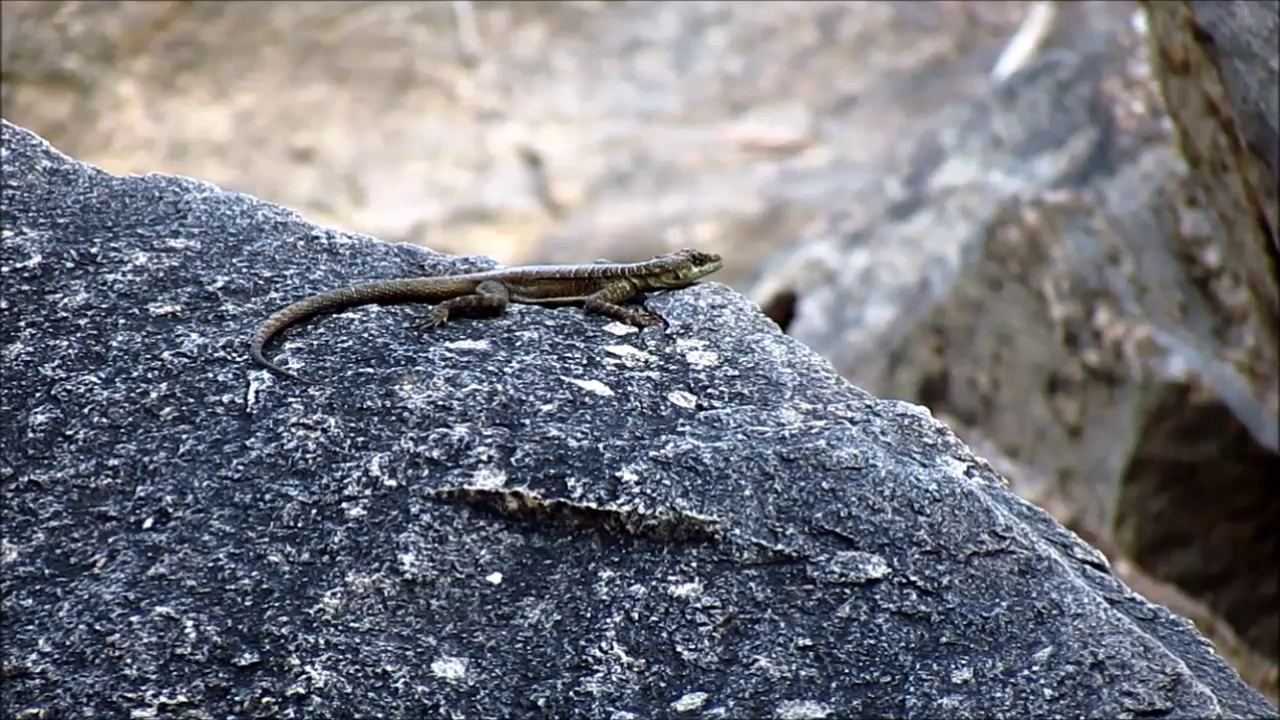body: (250, 261, 656, 383)
head: (649, 248, 724, 290)
